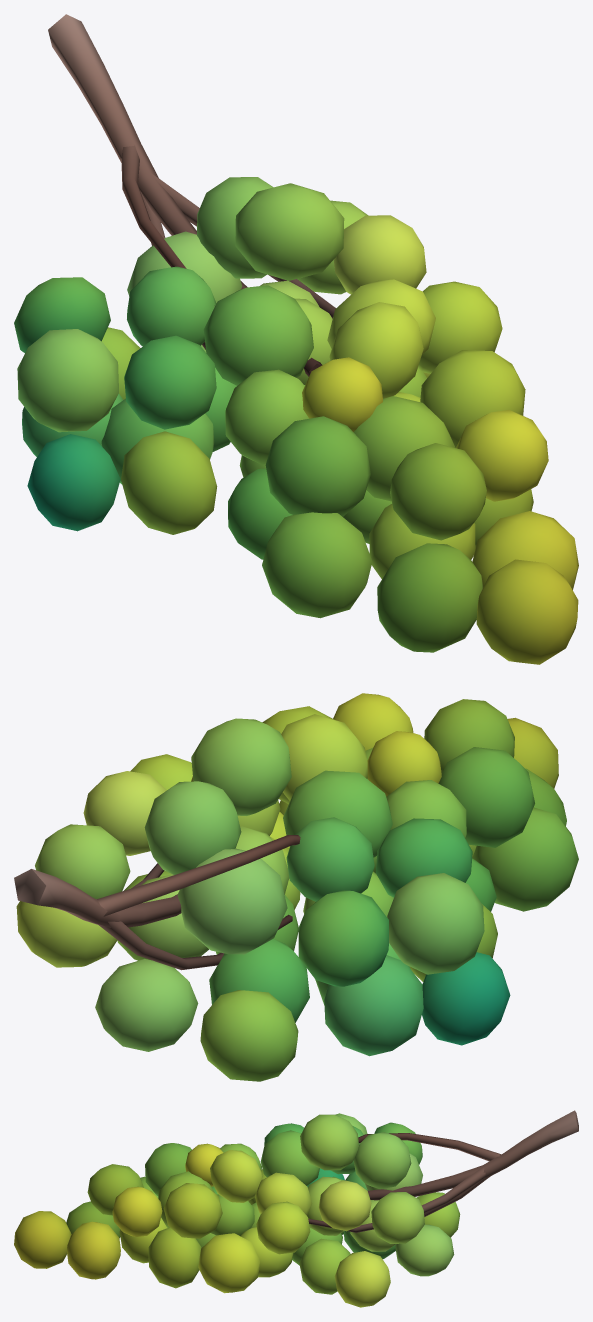
File: vinograd_001.fbx
3 views of the same model, one above another, from view 1: azimuth 30°, elevation 25°; view 2: azimuth 150°, elevation 25°; view 3: azimuth 270°, elevation 25° (orthographic). The views are drawn at different scales.
Visible parts, largest first — view 1: vinograd_001; view 2: vinograd_001; view 3: vinograd_001.
Boxes of the visible parts, bbox=[...] form: vinograd_001: bbox=[14, 14, 578, 664]; vinograd_001: bbox=[14, 693, 578, 1081]; vinograd_001: bbox=[14, 1110, 578, 1307].
Bounding box in the file's own units: 11.79 × 22.55 × 7.26.
